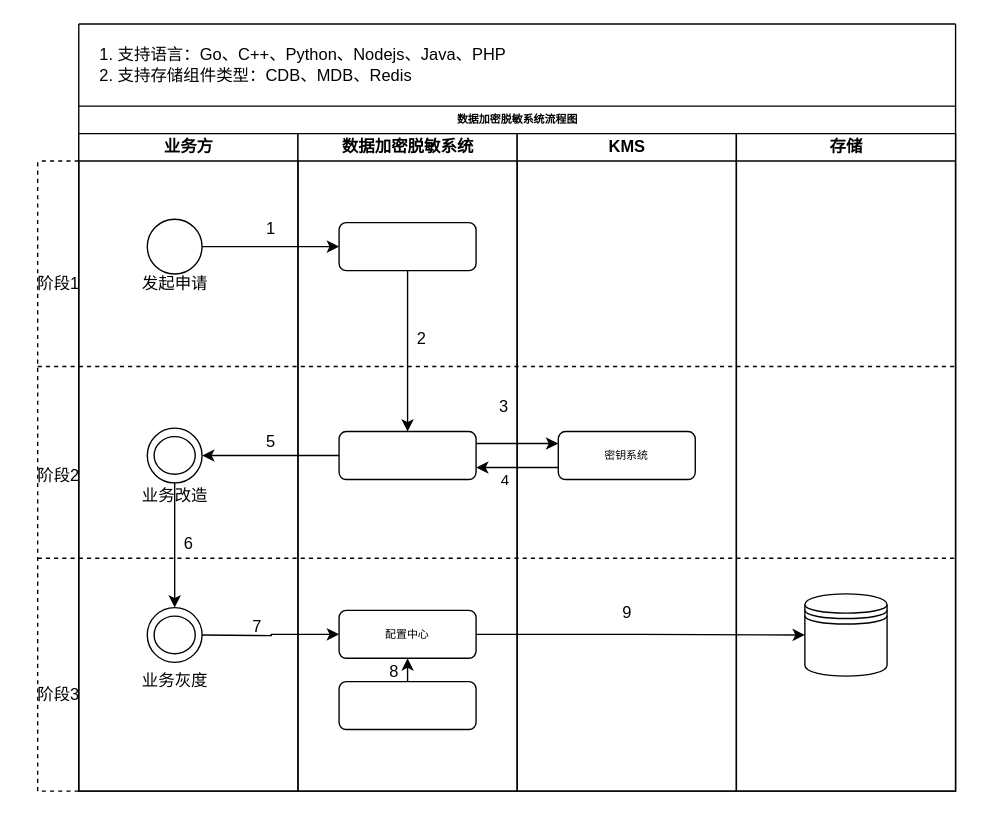
Some shapes in this 981 by 817 pixel diagram are drawn without their labels. The shapes that lost their labels are listed below. From the top down, each one's centre as x and y in pixels, then its label:
point 407,246: 服务准入
point 407,455: 密钥分发
point 845,634: DB
point 407,705: 控制开关
